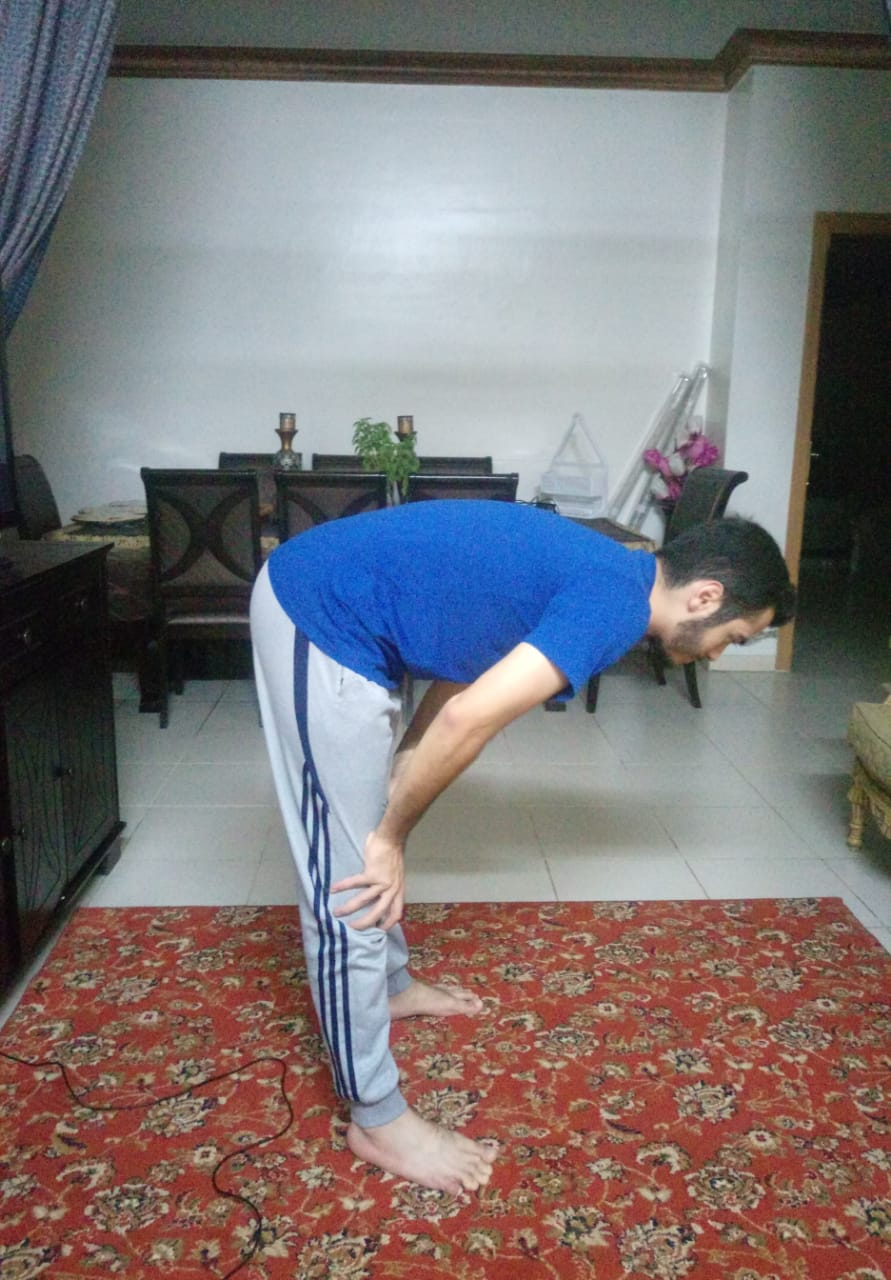ruku: (183, 438, 833, 1204)
